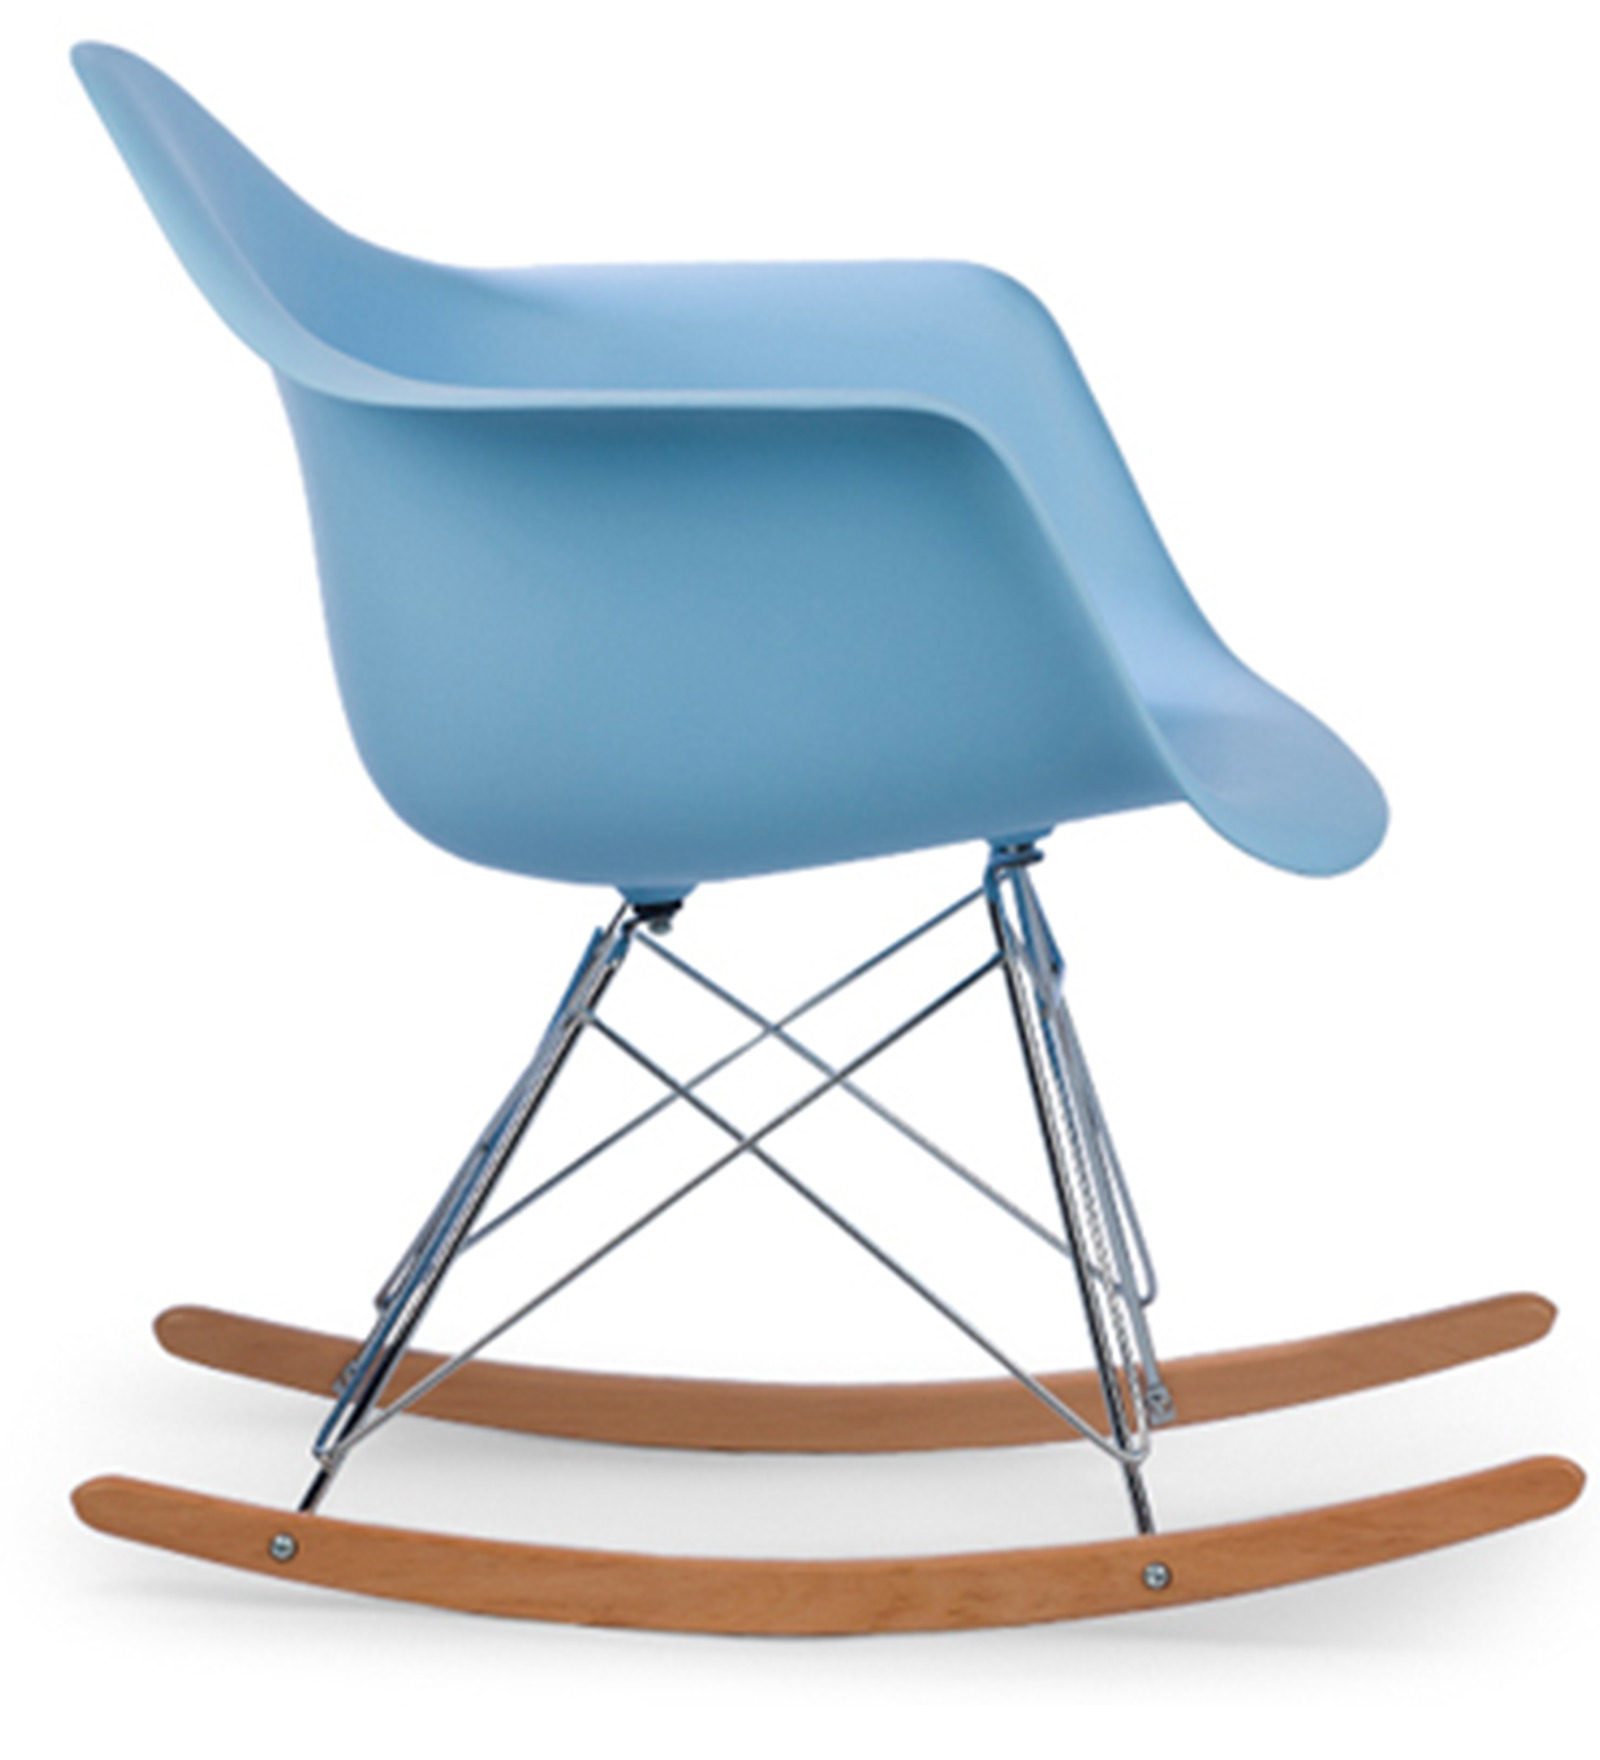Daytona Beach Club Rocking Chair in Robin Blue Colour by HomeHQ: (17, 9, 1585, 1755)
